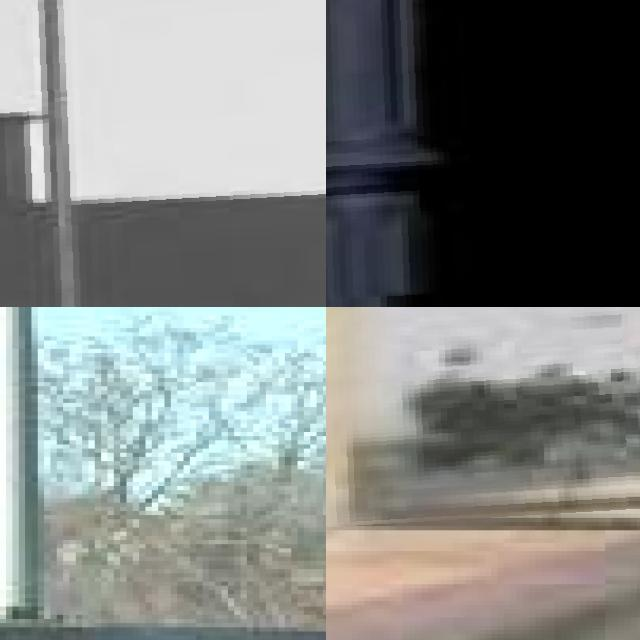street light: (0, 0, 326, 307), (326, 0, 640, 307), (326, 307, 640, 530)
